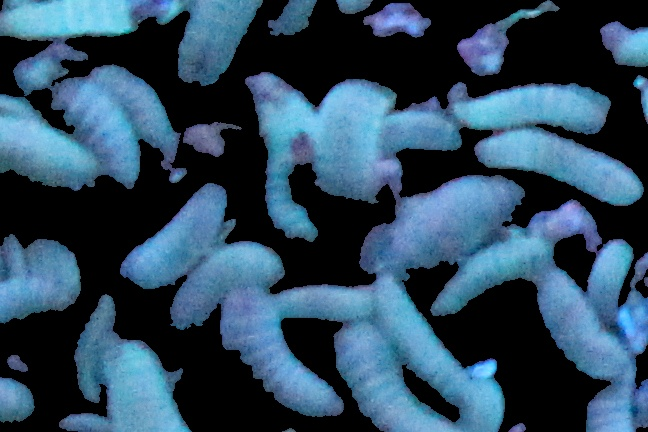larvae: (219, 294, 337, 419), (475, 128, 643, 206), (241, 74, 318, 243), (334, 323, 452, 432), (393, 175, 523, 269), (377, 278, 469, 402), (74, 64, 177, 170), (123, 184, 219, 291), (52, 75, 141, 185), (538, 273, 628, 381), (433, 235, 556, 313), (319, 78, 393, 205), (170, 245, 280, 328), (104, 337, 192, 432), (454, 84, 608, 134), (1, 113, 95, 188), (178, 1, 259, 82), (1, 1, 164, 38), (269, 281, 376, 321), (444, 371, 509, 428), (1, 279, 76, 326), (380, 111, 461, 152), (587, 239, 631, 314)
